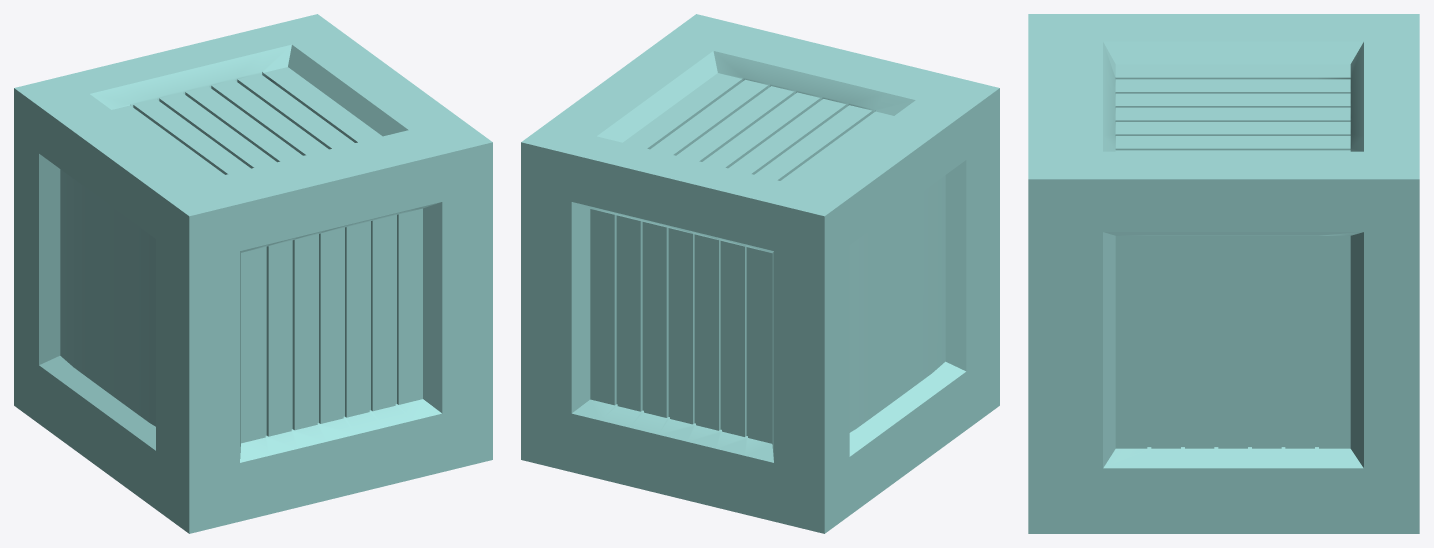
The picture shows the model from 3 angles, left to right: view 1: azimuth 30°, elevation 25°; view 2: azimuth 150°, elevation 25°; view 3: azimuth 270°, elevation 25°; orthographic projection. The views are drawn at different scales.
Visible parts, largest first — view 1: Cube_Material_0; view 2: Cube_Material_0; view 3: Cube_Material_0.
Part boxes in pixels (box(x1,y1,x2,y2)): Cube_Material_0: box(14, 14, 492, 533); Cube_Material_0: box(521, 14, 999, 533); Cube_Material_0: box(1028, 14, 1419, 533).
Bounding box in the file's own units: 1 × 1 × 1.
